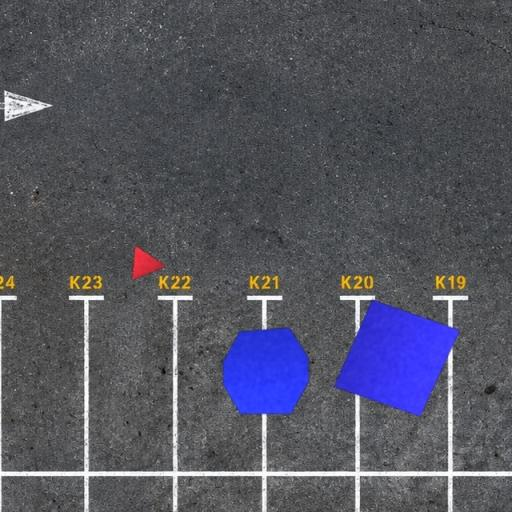BLUE_SQUARE: (333, 299, 461, 418)
